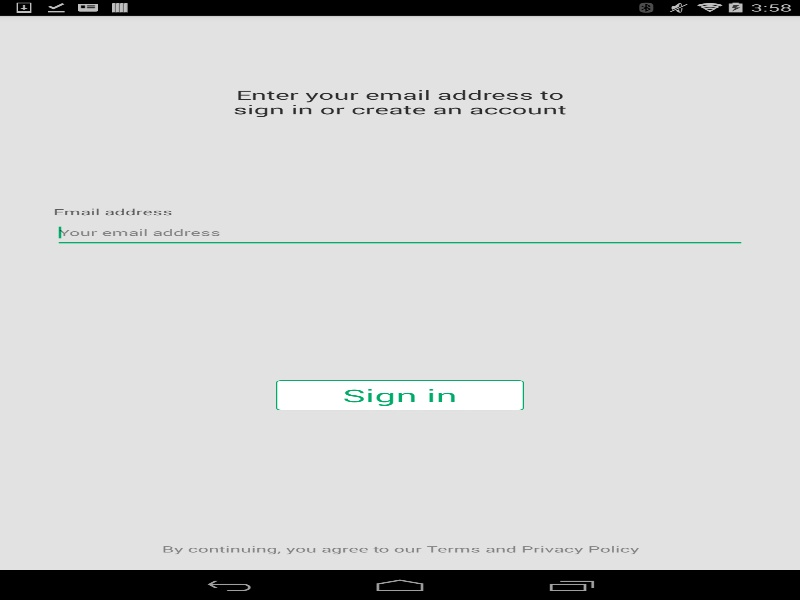Input: (53, 217, 746, 247)
